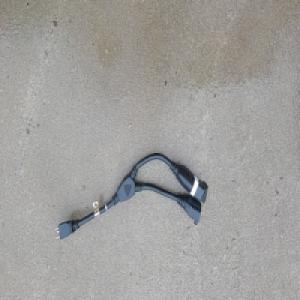Wire: (53, 151, 209, 242)
